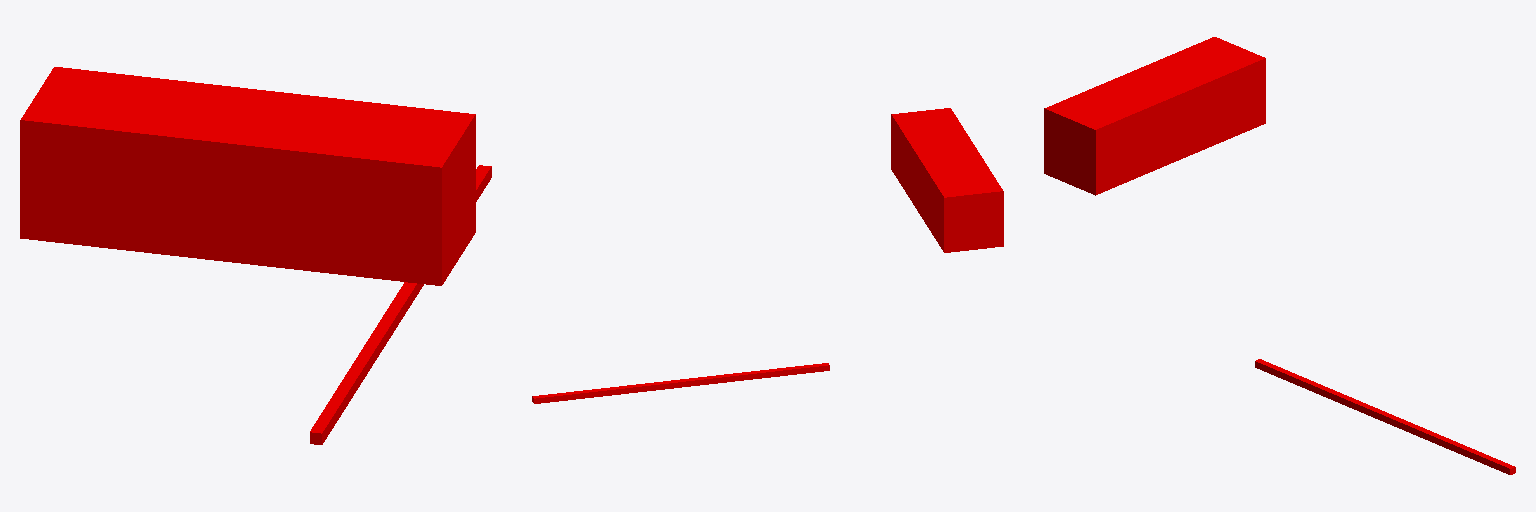
URDF robot description (panda):
<?xml version="1.0" ?>
<!-- =================================================================================== -->
<!-- |    This document was autogenerated by xacro from panda_arm_hand.urdf.xacro      | -->
<!-- |    EDITING THIS FILE BY HAND IS NOT RECOMMENDED                                 | -->
<!-- =================================================================================== -->
<robot name="panda"
  xmlns:xacro="http://www.ros.org/wiki/xacro">
  <link name="panda_link0">
    <inertial>
      <origin rpy="0 0 0" xyz="0 0 0.05"/>
      <mass value="2.9"/>
      <inertia ixx="0.1" ixy="0" ixz="0" iyy="0.1" iyz="0" izz="0.1"/>
    </inertial>
    <visual>
      <geometry>
        <mesh filename="package://meshes/collision/link0.obj"/>
      </geometry>
      <material name="panda_white">
        <color rgba="1. 1. 1. 1."/>
      </material>
    </visual>
    <collision>
      <geometry>
        <mesh filename="package://meshes/collision/link0.obj"/>
      </geometry>
      <material name="panda_white"/>
    </collision>
  </link>
  <link name="panda_link1">
    <inertial>
      <origin rpy="0 0 0" xyz="0 -0.04 -0.05"/>
      <mass value="2.7"/>
      <inertia ixx="0.1" ixy="0" ixz="0" iyy="0.1" iyz="0" izz="0.1"/>
    </inertial>
    <visual>
      <geometry>
        <mesh filename="package://meshes/visual/link1.obj"/>
      </geometry>
      <material name="panda_white"/>
    </visual>
    <collision>
      <geometry>
        <mesh filename="package://meshes/collision/link1.obj"/>
      </geometry>
      <material name="panda_white"/>
    </collision>
  </link>
  <joint name="panda_joint1" type="revolute">
    <safety_controller k_position="100.0" k_velocity="40.0" soft_lower_limit="-2.8973" soft_upper_limit="2.8973"/>
    <origin rpy="0 0 0" xyz="0 0 0.333"/>
    <parent link="panda_link0"/>
    <child link="panda_link1"/>
    <axis xyz="0 0 1"/>
    <limit effort="87" lower="-2.9671" upper="2.9671" velocity="2.1750"/>
  </joint>
  <link name="panda_link2">
    <inertial>
      <origin rpy="0 0 0" xyz="0 -0.04 0.06"/>
      <mass value="2.73"/>
      <inertia ixx="0.1" ixy="0" ixz="0" iyy="0.1" iyz="0" izz="0.1"/>
    </inertial>
    <visual>
      <geometry>
        <mesh filename="package://meshes/visual/link2.obj"/>
      </geometry>
      <material name="panda_white"/>
    </visual>
    <collision>
      <geometry>
        <mesh filename="package://meshes/collision/link2.obj"/>
      </geometry>
      <material name="panda_white"/>
    </collision>
  </link>
  <joint name="panda_joint2" type="revolute">
    <safety_controller k_position="100.0" k_velocity="40.0" soft_lower_limit="-1.7628" soft_upper_limit="1.7628"/>
    <origin rpy="-1.57079632679 0 0" xyz="0 0 0"/>
    <parent link="panda_link1"/>
    <child link="panda_link2"/>
    <axis xyz="0 0 1"/>
    <limit effort="87" lower="-1.8326" upper="1.8326" velocity="2.1750"/>
  </joint>
  <link name="panda_link3">
    <inertial>
      <origin rpy="0 0 0" xyz="0.01 0.01 -0.05"/>
      <mass value="2.04"/>
      <inertia ixx="0.1" ixy="0" ixz="0" iyy="0.1" iyz="0" izz="0.1"/>
    </inertial>
    <visual>
      <geometry>
        <mesh filename="package://meshes/visual/link3.obj"/>
      </geometry>
      <material name="panda_red">
        <color rgba="1. 1. 1. 1."/>
      </material>
    </visual>
    <collision>
      <geometry>
        <mesh filename="package://meshes/collision/link3.obj"/>
      </geometry>
    </collision>
  </link>
  <joint name="panda_joint3" type="revolute">
    <safety_controller k_position="100.0" k_velocity="40.0" soft_lower_limit="-2.8973" soft_upper_limit="2.8973"/>
    <origin rpy="1.57079632679 0 0" xyz="0 -0.316 0"/>
    <parent link="panda_link2"/>
    <child link="panda_link3"/>
    <axis xyz="0 0 1"/>
    <limit effort="87" lower="-2.9671" upper="2.9671" velocity="2.1750"/>
  </joint>
  <link name="panda_link4">
    <inertial>
      <origin rpy="0 0 0" xyz="-0.03 0.03 0.02"/>
      <mass value="2.08"/>
      <inertia ixx="0.1" ixy="0" ixz="0" iyy="0.1" iyz="0" izz="0.1"/>
    </inertial>
    <visual>
      <geometry>
        <mesh filename="package://meshes/visual/link4.obj"/>
      </geometry>
      <material name="panda_white"/>
    </visual>
    <collision>
      <geometry>
        <mesh filename="package://meshes/collision/link4.obj"/>
      </geometry>
      <material name="panda_white"/>
    </collision>
  </link>
  <joint name="panda_joint4" type="revolute">
    <safety_controller k_position="100.0" k_velocity="40.0" soft_lower_limit="-3.0718" soft_upper_limit="-0.0698"/>
    <origin rpy="1.57079632679 0 0" xyz="0.0825 0 0"/>
    <parent link="panda_link3"/>
    <child link="panda_link4"/>
    <axis xyz="0 0 1"/>
    <limit effort="87" lower="-3.1416" upper="0.0" velocity="2.1750"/>
  </joint>
  <link name="panda_link5">
    <inertial>
      <origin rpy="0 0 0" xyz="0 0.04 -0.12"/>
      <mass value="3"/>
      <inertia ixx="0.1" ixy="0" ixz="0" iyy="0.1" iyz="0" izz="0.1"/>
    </inertial>
    <visual>
      <geometry>
        <mesh filename="package://meshes/visual/link5.obj"/>
      </geometry>
      <material name="panda_white"/>
    </visual>
    <collision>
      <geometry>
        <mesh filename="package://meshes/collision/link5.obj"/>
      </geometry>
      <material name="panda_white"/>
    </collision>
  </link>
  <joint name="panda_joint5" type="revolute">
    <safety_controller k_position="100.0" k_velocity="40.0" soft_lower_limit="-2.8973" soft_upper_limit="2.8973"/>
    <origin rpy="-1.57079632679 0 0" xyz="-0.0825 0.384 0"/>
    <parent link="panda_link4"/>
    <child link="panda_link5"/>
    <axis xyz="0 0 1"/>
    <limit effort="12" lower="-2.9671" upper="2.9671" velocity="2.6100"/>
  </joint>
  <link name="panda_link6">
    <inertial>
      <origin rpy="0 0 0" xyz="0.04 0 0"/>
      <mass value="1.3"/>
      <inertia ixx="0.1" ixy="0" ixz="0" iyy="0.1" iyz="0" izz="0.1"/>
    </inertial>
    <visual>
      <geometry>
        <mesh filename="package://meshes/visual/link6.obj"/>
      </geometry>
      <material name="panda_white"/>
    </visual>
    <collision>
      <geometry>
        <mesh filename="package://meshes/collision/link6.obj"/>
      </geometry>
      <material name="panda_white"/>
    </collision>
  </link>
  <joint name="panda_joint6" type="revolute">
    <safety_controller k_position="100.0" k_velocity="40.0" soft_lower_limit="-0.0175" soft_upper_limit="3.7525"/>
    <origin rpy="1.57079632679 0 0" xyz="0 0 0"/>
    <parent link="panda_link5"/>
    <child link="panda_link6"/>
    <axis xyz="0 0 1"/>
    <limit effort="12" lower="-0.0873" upper="3.8223" velocity="2.6100"/>
  </joint>
  <link name="panda_link7">
    <inertial>
      <origin rpy="0 0 0" xyz="0 0 0.08"/>
      <mass value=".2"/>
      <inertia ixx="0.1" ixy="0" ixz="0" iyy="0.1" iyz="0" izz="0.1"/>
    </inertial>
    <visual>
      <geometry>
        <mesh filename="package://meshes/collision/link7.obj"/>
      </geometry>
      <material name="panda_white"/>
    </visual>
    <collision>
      <geometry>
        <mesh filename="package://meshes/collision/link7.obj"/>
      </geometry>
      <material name="panda_white"/>
    </collision>
  </link>
  <joint name="panda_joint7" type="revolute">
    <safety_controller k_position="100.0" k_velocity="40.0" soft_lower_limit="-2.8973" soft_upper_limit="2.8973"/>
    <origin rpy="1.57079632679 0 0" xyz="0.088 0 0"/>
    <parent link="panda_link6"/>
    <child link="panda_link7"/>
    <axis xyz="0 0 1"/>
    <limit effort="12" lower="-2.9671" upper="2.9671" velocity="2.6100"/>
  </joint>
  <link name="panda_link8">
    <inertial>
      <origin rpy="0 0 0" xyz="0 0 0"/>
      <mass value="0.0"/>
      <inertia ixx="0.1" ixy="0" ixz="0" iyy="0.1" iyz="0" izz="0.1"/>
    </inertial>
  </link>
  <joint name="panda_joint8" type="fixed">
    <origin rpy="0 0 0" xyz="0 0 0.107"/>
    <parent link="panda_link7"/>
    <child link="panda_link8"/>
    <axis xyz="0 0 0"/>
  </joint>
  <joint name="panda_hand_joint" type="fixed">
    <parent link="panda_link8"/>
    <child link="panda_hand"/>
    <origin rpy="0 0 -0.785398163397" xyz="0 0 0"/>
  </joint>
  <link name="panda_hand">
    <inertial>
      <origin rpy="0 0 0" xyz="0 0 0.04"/>
      <mass value=".81"/>
      <inertia ixx="0.1" ixy="0" ixz="0" iyy="0.1" iyz="0" izz="0.1"/>
    </inertial>
    <visual>
      <geometry>
        <mesh filename="package://meshes/visual/hand.obj"/>
      </geometry>
      <material name="panda_white"/>
    </visual>
    <collision>
      <geometry>
        <mesh filename="package://meshes/collision/hand.obj"/>
      </geometry>
      <material name="panda_white"/>
    </collision>
  </link>

  <link name="cam">
    <contact>
      <friction_anchor/>
      <stiffness value="30000.0"/>
      <damping value="1000.0"/>
      <spinning_friction value="0.1"/>
      <lateral_friction value="1.0"/>
    </contact>
    <inertial>
      <origin rpy="0 0 0" xyz="0 0 0"/>
      <mass value="0.1"/>
      <inertia ixx="0.1" ixy="0" ixz="0" iyy="0.1" iyz="0" izz="0.1"/>
    </inertial>
    <visual>
      <origin rpy="0 0 0" xyz="-0.06 0 -0.035"/>
      <geometry>
        <box size="0.03 0.1 0.03"/>
      </geometry>
      <material name="stick_red">
        <color rgba="1 0.0 0.0 1"/>
      </material>
    </visual>
    <collision>
      <origin rpy="0 0 0" xyz="-0.06 0 -0.035"/>
      <geometry>
        <box size="0.03 0.1 0.03"/>
      </geometry>
    </collision>
  </link>
  <joint name="cam_joint" type="fixed">
    <parent link="panda_hand"/>
    <child link="cam"/>
    <origin rpy="0 0 0" xyz="0 -0.005 0.05"/>
  </joint>

  <link name="panda_leftfinger">
    <contact>
      <friction_anchor/>
      <stiffness value="30000.0"/>
      <damping value="1000.0"/>
      <spinning_friction value="0.1"/>
      <lateral_friction value="1.0"/>
    </contact>
    <inertial>
      <origin rpy="0 0 0" xyz="0 0.01 0.02"/>
      <mass value="0.1"/>
      <inertia ixx="0.1" ixy="0" ixz="0" iyy="0.1" iyz="0" izz="0.1"/>
    </inertial>
    <visual>
      <geometry>
        <mesh filename="package://meshes/visual/finger.obj"/>
      </geometry>
      <material name="panda_white"/>
    </visual>
    <collision>
      <geometry>
        <mesh filename="package://meshes/collision/finger.obj"/>
      </geometry>
      <material name="panda_white"/>
    </collision>
  </link>
  <link name="panda_rightfinger">
    <contact>
      <friction_anchor/>
      <stiffness value="30000.0"/>
      <damping value="1000.0"/>
      <spinning_friction value="0.1"/>
      <lateral_friction value="1.0"/>
    </contact>
    <inertial>
      <origin rpy="0 0 0" xyz="0 -0.01 0.02"/>
      <mass value="0.1"/>
      <inertia ixx="0.1" ixy="0" ixz="0" iyy="0.1" iyz="0" izz="0.1"/>
    </inertial>
    <visual>
      <origin rpy="0 0 3.14159265359" xyz="0 0 0"/>
      <geometry>
        <mesh filename="package://meshes/visual/finger.obj"/>
      </geometry>
      <material name="panda_white"/>
    </visual>
    <collision>
      <origin rpy="0 0 3.14159265359" xyz="0 0 0"/>
      <geometry>
        <mesh filename="package://meshes/collision/finger.obj"/>
      </geometry>
      <material name="panda_white"/>
    </collision>
  </link>

  <link name="stick">
    <contact>
      <friction_anchor/>
      <stiffness value="30000.0"/>
      <damping value="1000.0"/>
      <spinning_friction value="0.1"/>
      <lateral_friction value="1.0"/>
    </contact>
    <inertial>
      <origin rpy="0 0 0" xyz="0 0 0"/>
      <mass value="0.1"/>
      <inertia ixx="0.1" ixy="0" ixz="0" iyy="0.1" iyz="0" izz="0.1"/>
    </inertial>
    <visual>
      <origin rpy="0 0 0" xyz="0.075 0 0"/>
      <geometry>
        <box size="-0.15 0.003 0.003"/>
      </geometry>
      <material name="stick_red">
        <color rgba="1 0.0 0.0 1"/>
      </material>
    </visual>
    <collision>
      <origin rpy="0 0 0" xyz="0.075 0 0"/>
      <geometry>
        <box size="-0.15 0.003 0.003"/>
      </geometry>
    </collision>
  </link>
  <joint name="stick_finger_joint" type="fixed">
    <parent link="panda_rightfinger"/>
    <child link="stick"/>
    <origin rpy="0 0 0" xyz="0 -0.005 0.05"/>
  </joint>

  <link name="sticktarget">
    <inertial>
      <origin rpy="0 0 0" xyz="0 0 0"/>
      <mass value="0.0"/>
      <inertia ixx="0.1" ixy="0" ixz="0" iyy="0.1" iyz="0" izz="0.1"/>
    </inertial>
  </link>
  <joint name="sticktarget_hand" type="fixed">
    <parent link="stick"/>
    <child link="sticktarget"/>
    <origin rpy="0 0 0" xyz="0.15 0 0"/>
  </joint>

  <joint name="panda_finger_joint1" type="prismatic">
    <parent link="panda_hand"/>
    <child link="panda_leftfinger"/>
    <origin rpy="0 0 0" xyz="0 0 0.0584"/>
    <axis xyz="0 1 0"/>
    <limit effort="20" lower="0.0" upper="0.04" velocity="0.2"/>
  </joint>
  <joint name="panda_finger_joint2" type="prismatic">
    <parent link="panda_hand"/>
    <child link="panda_rightfinger"/>
    <origin rpy="0 0 0" xyz="0 0 0.0584"/>
    <axis xyz="0 -1 0"/>
    <limit effort="20" lower="0.0" upper="0.04" velocity="0.2"/>
    <mimic joint="panda_finger_joint1"/>
  </joint>
  <link name="panda_grasptarget">
    <inertial>
      <origin rpy="0 0 0" xyz="0 0 0"/>
      <mass value="0.0"/>
      <inertia ixx="0.1" ixy="0" ixz="0" iyy="0.1" iyz="0" izz="0.1"/>
    </inertial>
  </link>
  <joint name="panda_grasptarget_hand" type="fixed">
    <parent link="panda_hand"/>
    <child link="panda_grasptarget"/>
    <origin rpy="0 0 0" xyz="0 0 0.105"/>
  </joint>

</robot>

--- Facts derived from the render (not from the file) ---
The picture shows the robot from 3 angles, left to right: view 1: azimuth 30°, elevation 25°; view 2: azimuth 150°, elevation 25°; view 3: azimuth 270°, elevation 25°; orthographic projection.
Model panda with 16 links and 15 joints (7 revolute, 2 prismatic, 6 fixed), rooted at panda_link0, posed all joints at 0.
Visible links, largest first — view 1: cam, stick; view 2: cam, stick; view 3: cam, stick.
Boxes of the visible links, x1=… form: cam: x1=20, y1=67, x2=475, y2=285; stick: x1=310, y1=165, x2=491, y2=444; cam: x1=891, y1=108, x2=1003, y2=252; stick: x1=532, y1=363, x2=829, y2=403; cam: x1=1044, y1=37, x2=1265, y2=195; stick: x1=1255, y1=359, x2=1515, y2=474.
Size in the robot's own frame: 0.1955 by 0.1955 by 0.1099 metres.
Meshes: 10 distinct files referenced, 0 mesh visuals loaded (none loaded); not drawn: 11 (reference not matched to a file when rendering).